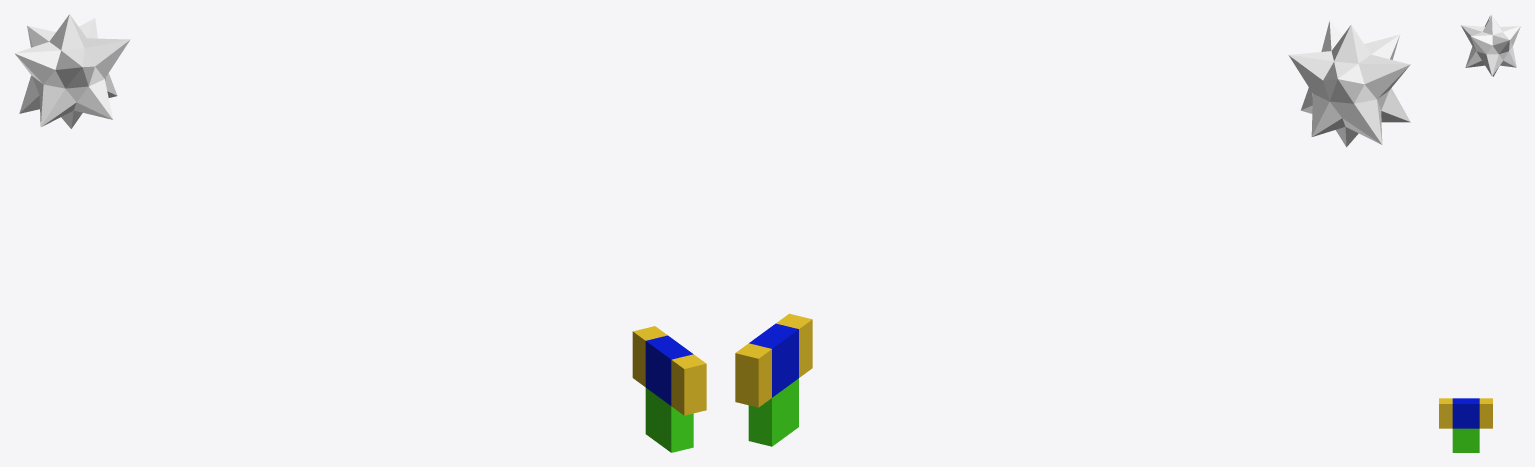
File: Pure Boredum.glb
3 renders of one model, left to right at view 1: azimuth 30°, elevation 25°; view 2: azimuth 150°, elevation 25°; view 3: azimuth 270°, elevation 25°, orthographic. The views are drawn at different scales.
Visible parts, largest first — view 1: Icosphere, Cube.002, Cube, Cube.004, Cube.001; view 2: Icosphere, Cube.001, Cube, Cube.003, Cube.002, Cube.004; view 3: Icosphere, Cube, Cube.001, Cube.002, Cube.003, Cube.004.
Part boxes in pixels (x1,y1,x2,y2): Icosphere: [14, 14, 130, 128]; Cube.002: [671, 354, 706, 415]; Cube: [645, 335, 693, 405]; Cube.004: [658, 397, 693, 452]; Cube.001: [632, 326, 667, 386]; Icosphere: [1288, 20, 1410, 147]; Cube.001: [735, 343, 771, 407]; Cube: [749, 323, 798, 397]; Cube.003: [748, 388, 785, 446]; Cube.002: [776, 313, 812, 377]; Cube.004: [785, 378, 798, 436]; Icosphere: [1460, 14, 1520, 76]; Cube: [1452, 398, 1479, 428]; Cube.001: [1479, 398, 1492, 428]; Cube.002: [1439, 398, 1452, 428]; Cube.003: [1466, 428, 1479, 452]; Cube.004: [1452, 428, 1465, 452].
Bounding box in the file's own units: 57.65 × 47.08 × 12.14.
